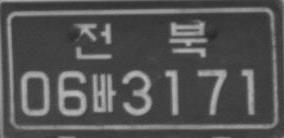0: (20, 69, 51, 116)
1: (159, 69, 187, 116), (236, 68, 262, 115)
3: (121, 69, 153, 116)
6: (57, 69, 87, 117)
7: (195, 67, 228, 116)
바: (91, 72, 116, 113)
전북_D: (74, 21, 208, 59)
